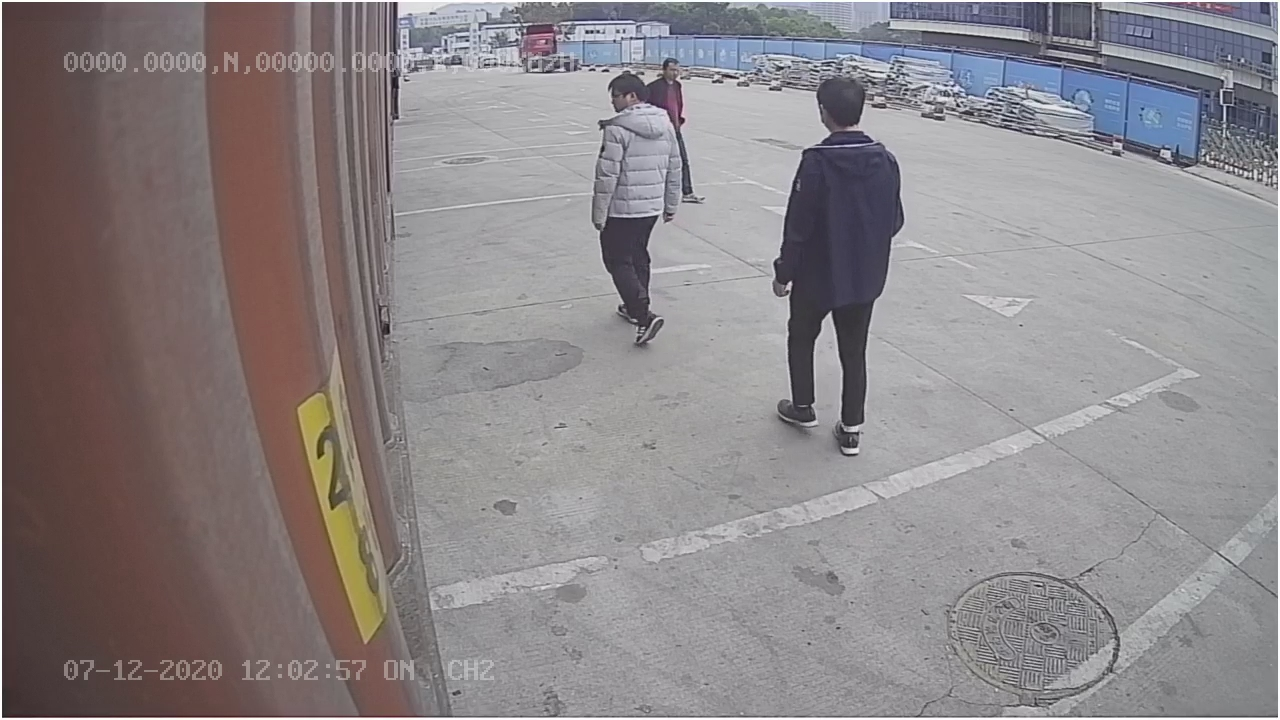person: (773, 72, 908, 457)
